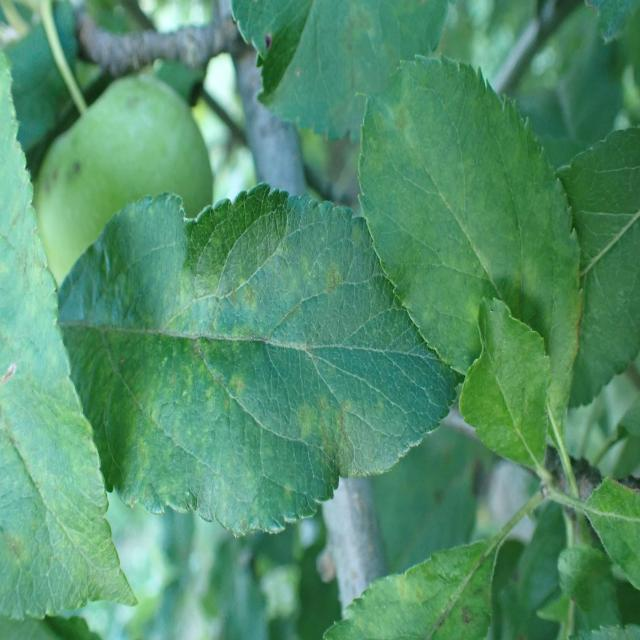scab: (59, 218, 399, 500), (0, 60, 112, 611), (385, 82, 508, 283), (416, 520, 513, 640), (320, 0, 384, 123)
